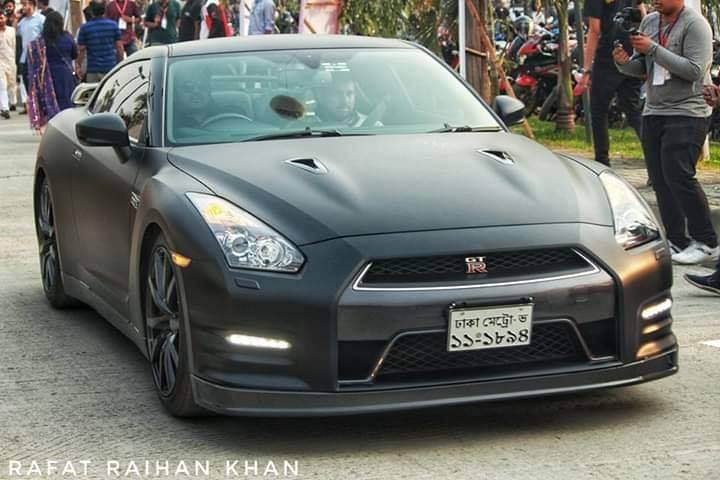registration_plate: (447, 303, 534, 352)
